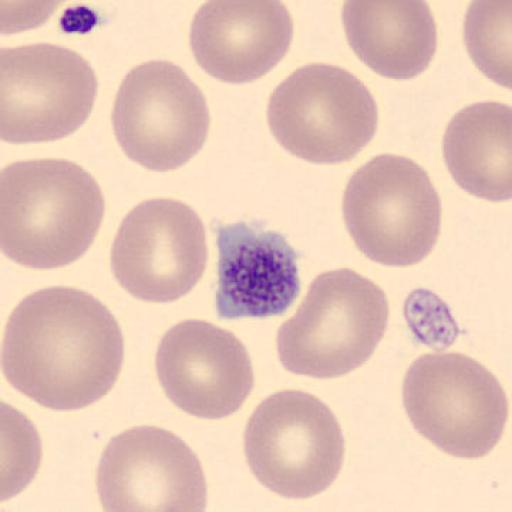Platelet: (211, 225, 304, 321), (400, 284, 462, 354)
RBC: (0, 282, 127, 415), (275, 268, 391, 382), (264, 60, 380, 167), (240, 387, 347, 502), (400, 350, 510, 461), (339, 153, 443, 269), (109, 57, 212, 174), (3, 156, 107, 270), (109, 196, 210, 306), (153, 318, 257, 421), (93, 423, 210, 512), (2, 40, 100, 146), (188, 0, 296, 86), (339, 0, 439, 82), (439, 98, 512, 204), (462, 0, 512, 93), (2, 400, 44, 506), (2, 0, 66, 37)
